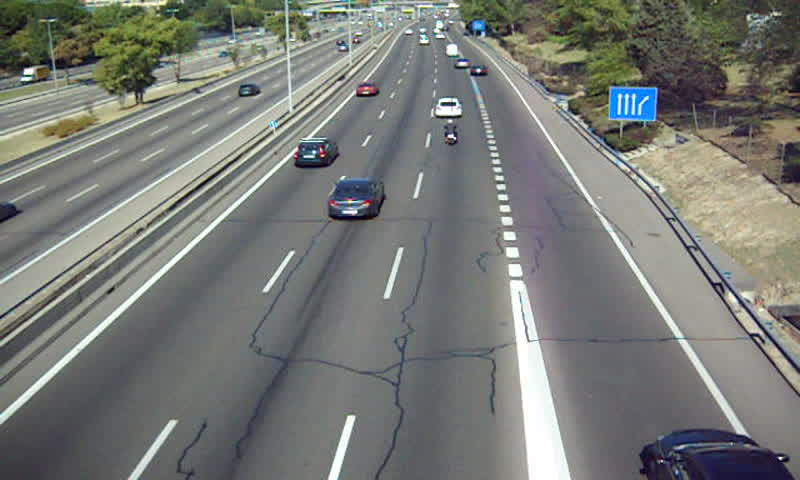car: (326, 178, 384, 218), (293, 138, 338, 167), (434, 97, 463, 119), (354, 83, 379, 98), (469, 65, 487, 76), (456, 56, 470, 69)
motorcycle: (442, 120, 460, 148)
